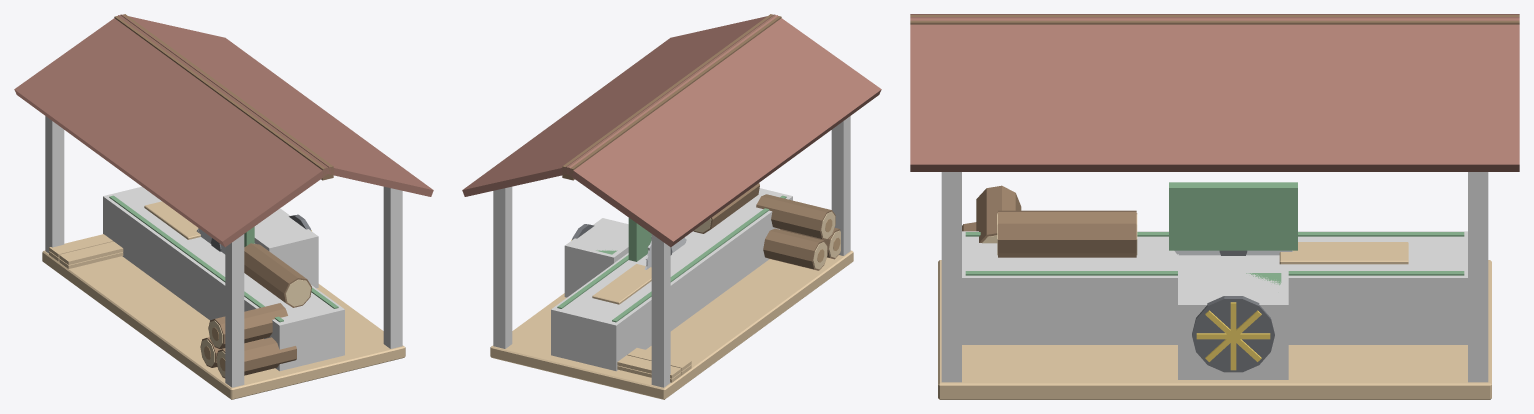
File: Sawmill.fbx
3 renders of one model, left to right at view 1: azimuth 30°, elevation 25°; view 2: azimuth 150°, elevation 25°; view 3: azimuth 270°, elevation 25°, orthographic. The views are drawn at different scales.
Visible parts, largest first — view 1: Base, COL_Table, COL_Post.002, COL_Post, COL_Motor, COL_Post.001, Log, Plank; view 2: Base, COL_Table, COL_Post.003, COL_Motor, COL_Post.001, COL_Post, Plank, Log; view 3: Base, COL_Table, COL_Motor, Log, Flywheel, COL_Post.002, COL_Post.003, Plank, Blade.
Boxes of the visible parts, left/top/right/bottom form: Base: left=14, top=14, right=433, bottom=399; COL_Table: left=103, top=186, right=344, bottom=371; COL_Post.002: left=383, top=186, right=402, bottom=348; COL_Post: left=225, top=234, right=244, bottom=387; COL_Motor: left=254, top=208, right=318, bottom=288; COL_Post.001: left=45, top=116, right=64, bottom=253; Log: left=244, top=243, right=311, bottom=307; Plank: left=144, top=201, right=200, bottom=239; Base: left=462, top=14, right=881, bottom=399; COL_Table: left=551, top=188, right=792, bottom=371; COL_Post.003: left=493, top=186, right=512, bottom=348; COL_Motor: left=564, top=218, right=628, bottom=297; COL_Post.001: left=651, top=234, right=670, bottom=387; COL_Post: left=831, top=116, right=850, bottom=255; Plank: left=592, top=264, right=651, bottom=304; Log: left=693, top=183, right=759, bottom=233; Base: left=910, top=14, right=1519, bottom=399; COL_Table: left=962, top=231, right=1467, bottom=344; COL_Motor: left=1178, top=269, right=1288, bottom=379; Log: left=997, top=210, right=1137, bottom=257; Flywheel: left=1192, top=296, right=1274, bottom=372; COL_Post.002: left=941, top=172, right=961, bottom=382; COL_Post.003: left=1468, top=172, right=1488, bottom=382; Plank: left=1279, top=242, right=1408, bottom=264; Blade: left=1174, top=250, right=1292, bottom=255.
Size of the model in its own units: 3.87 by 3.83 by 6.6.
